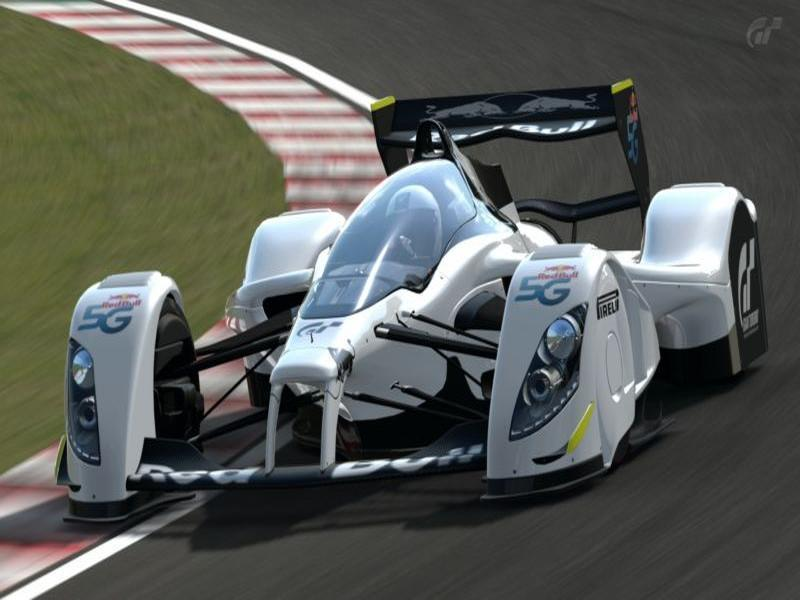f1: (55, 93, 760, 523)
